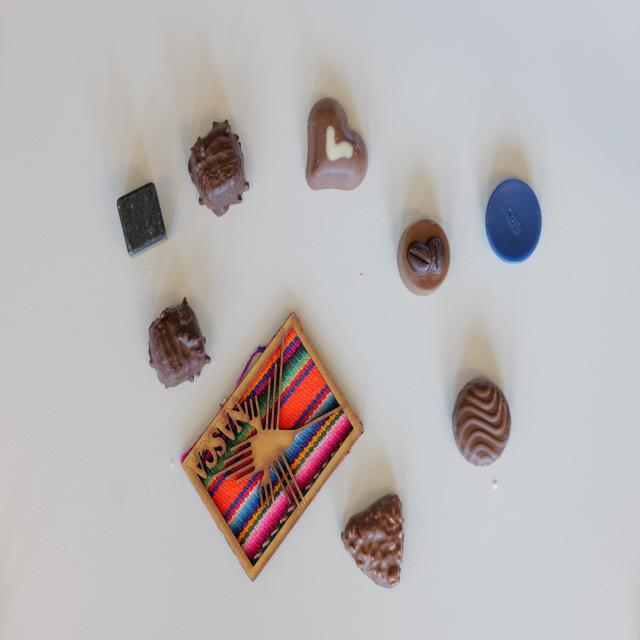Arabia: (396, 218, 450, 298)
Noir_authentique: (452, 379, 512, 467)
Passion_au_lait: (306, 98, 368, 193)
Tentation_noir: (188, 118, 250, 219), (148, 297, 210, 390)
Triangolo: (341, 493, 407, 589)
